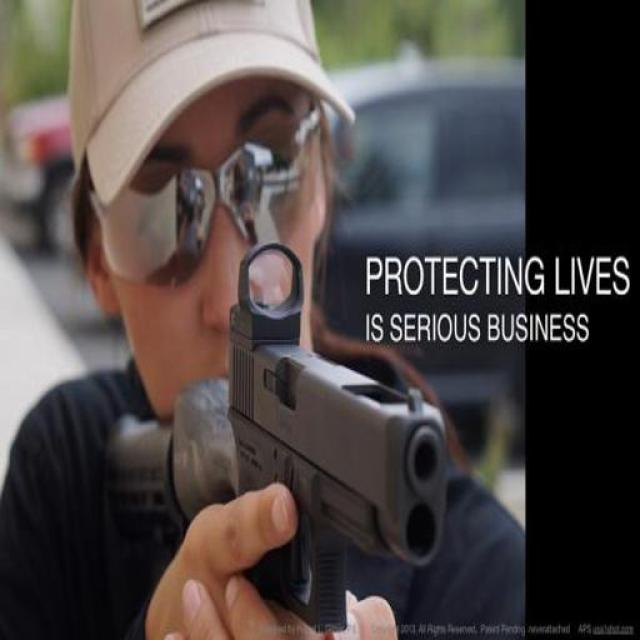pistol: (231, 235, 447, 637)
